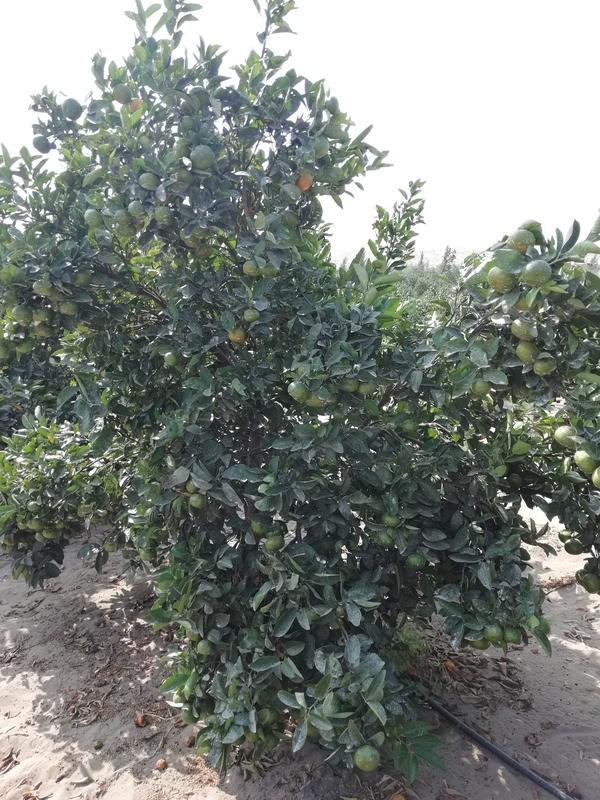mandarina verde: (521, 258, 551, 285), (187, 143, 216, 169), (487, 268, 516, 293), (506, 227, 537, 249), (554, 424, 581, 447), (515, 340, 539, 365), (511, 318, 538, 340), (286, 379, 310, 402), (110, 81, 132, 104), (60, 97, 84, 118), (135, 171, 161, 190), (575, 451, 596, 474), (81, 206, 103, 225), (30, 135, 51, 153), (471, 377, 490, 396), (406, 554, 425, 572), (485, 625, 503, 643), (504, 626, 521, 644), (267, 536, 284, 552), (189, 493, 205, 509), (128, 200, 145, 215), (243, 261, 259, 276), (197, 640, 211, 655)
